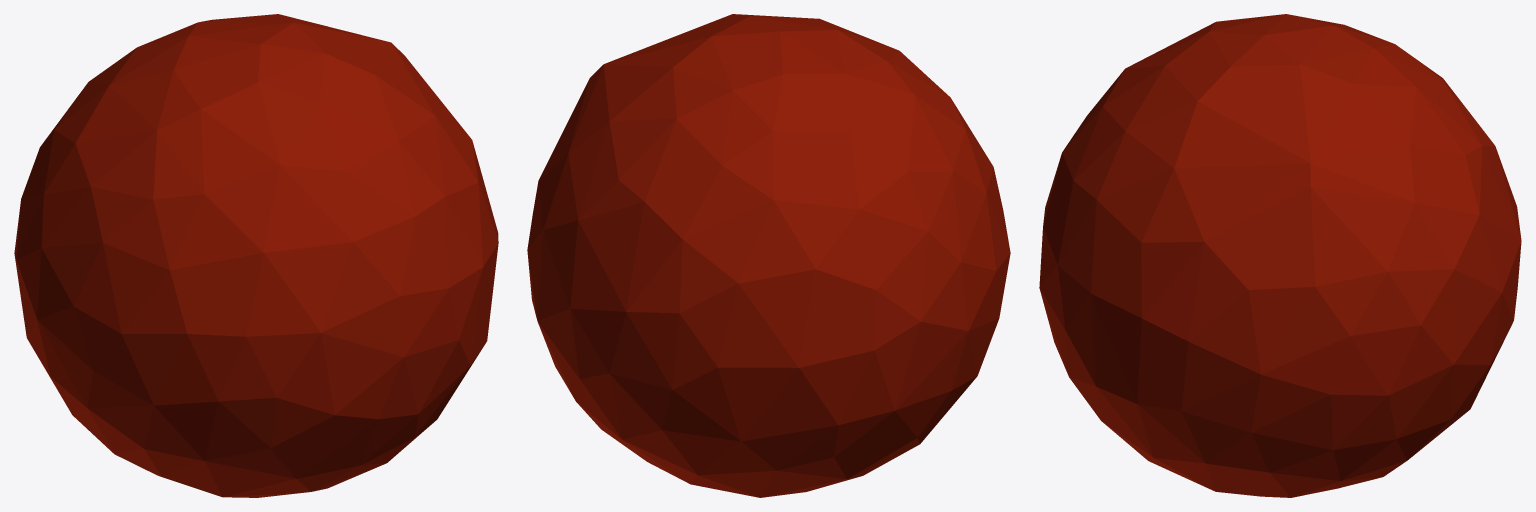
Rendered from mustafar_simple.dae.
The picture shows the model from 3 angles, left to right: view 1: azimuth 30°, elevation 25°; view 2: azimuth 150°, elevation 25°; view 3: azimuth 270°, elevation 25°; orthographic projection.
Visible parts, largest first — view 1: kamino; view 2: kamino; view 3: kamino.
Boxes of the visible parts, x1=… form: kamino: x1=14, y1=14, x2=498, y2=497; kamino: x1=527, y1=14, x2=1010, y2=497; kamino: x1=1039, y1=14, x2=1521, y2=497.
Bounding box in the file's own units: 6.04 × 5.99 × 6.03.
